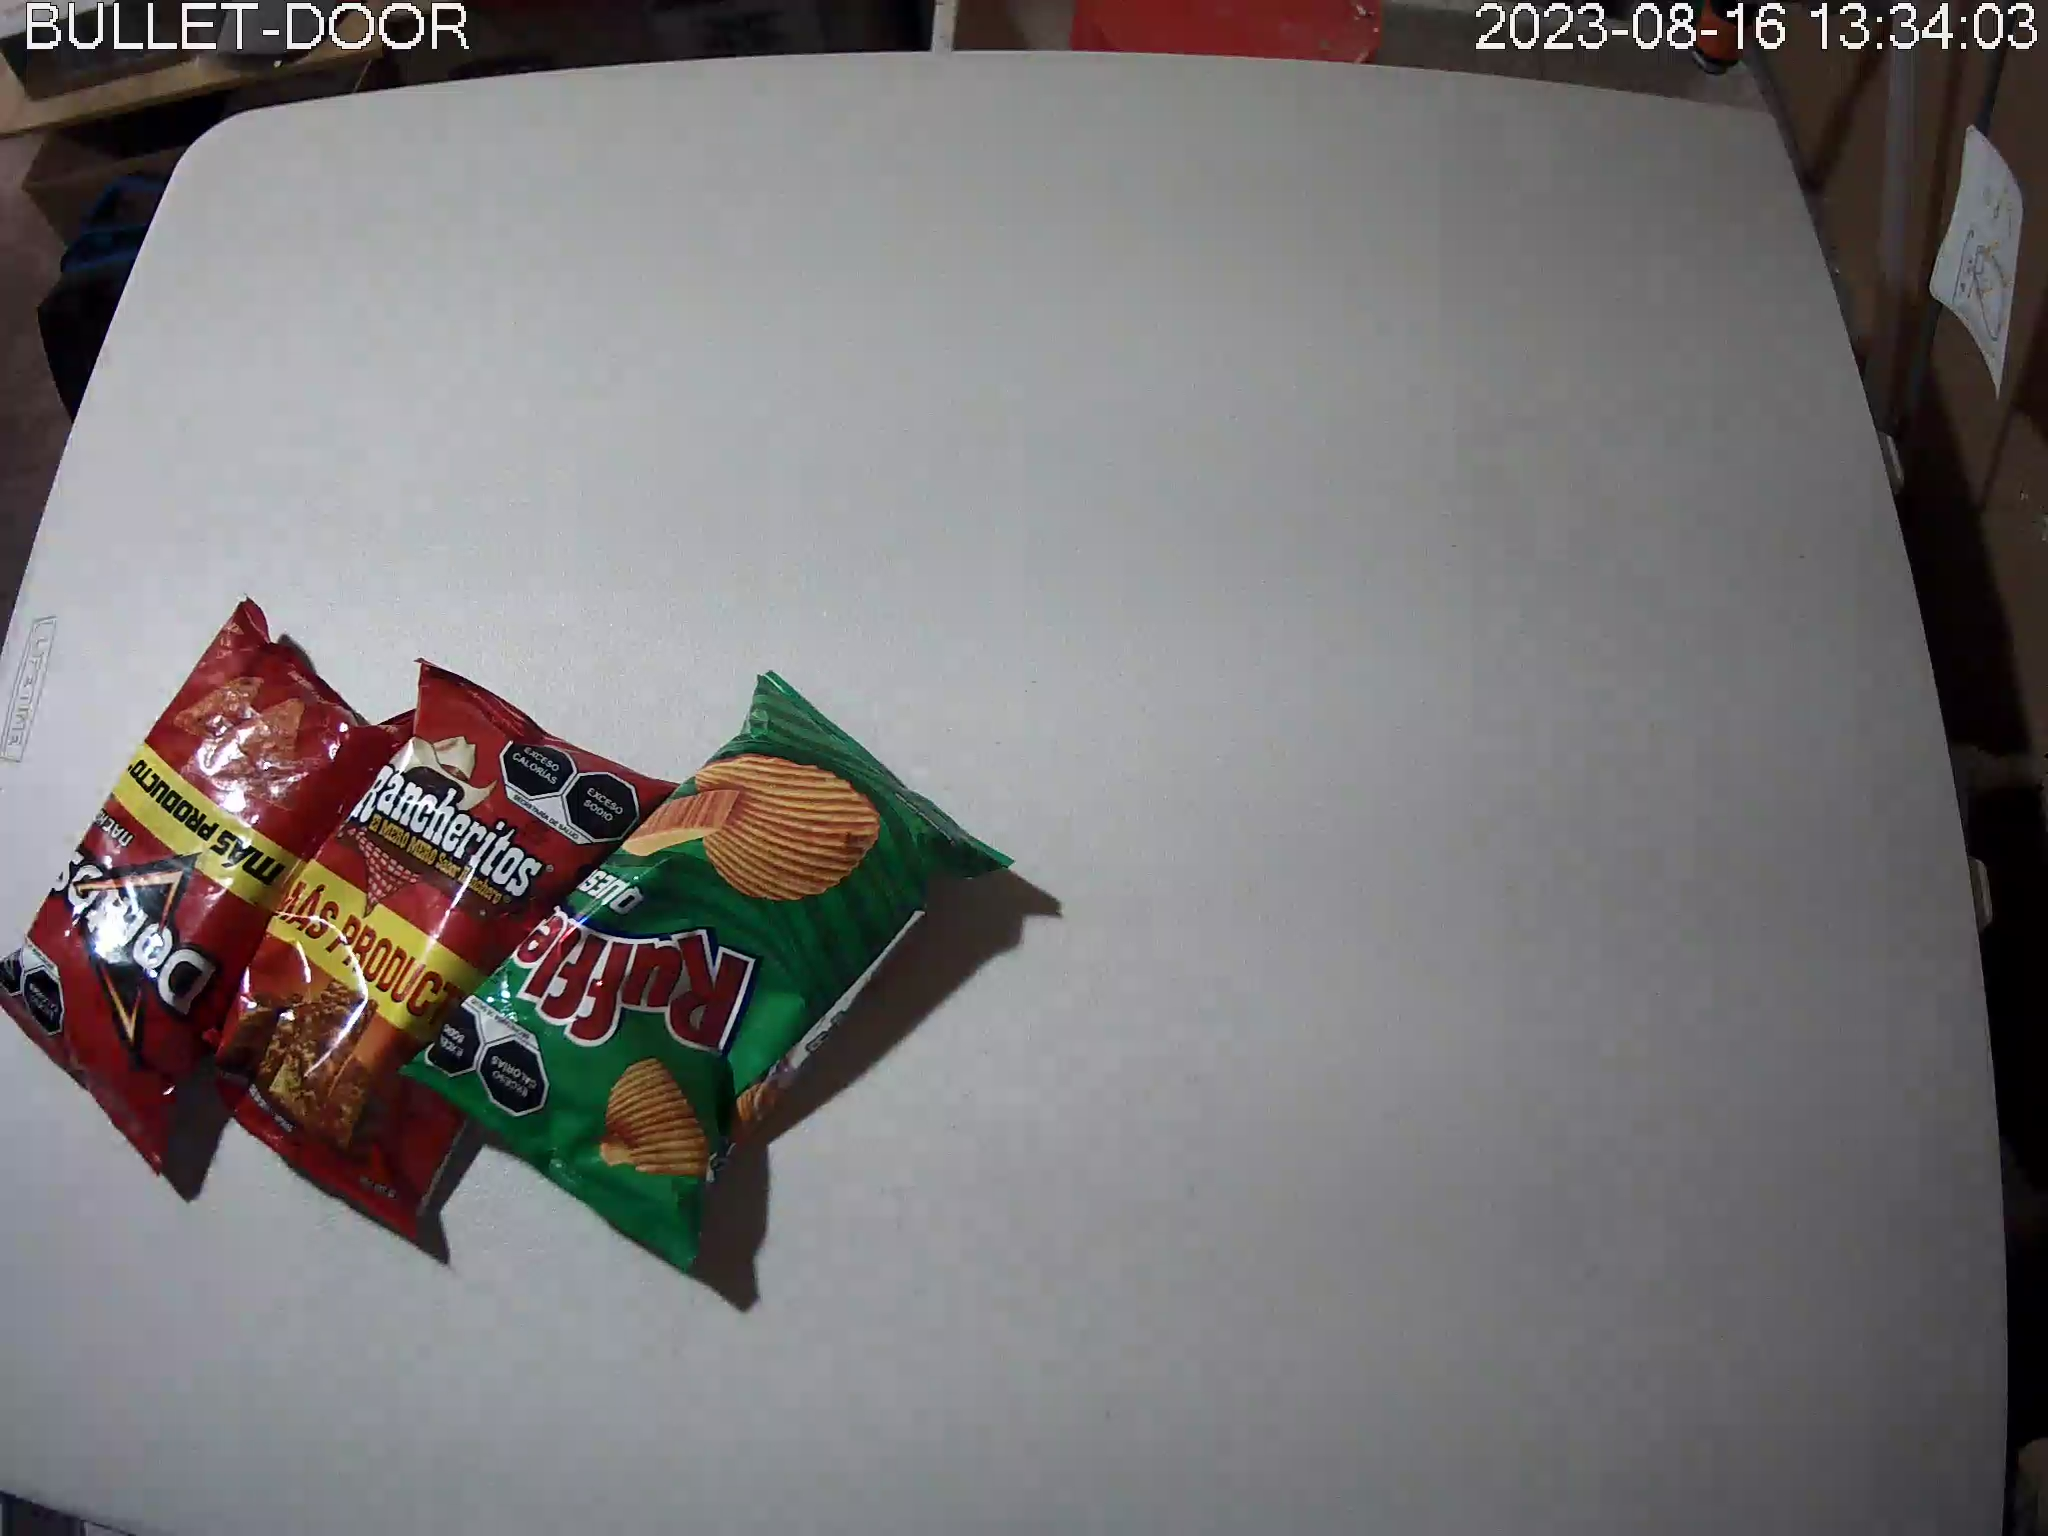DoritosN_61_F: (2, 594, 418, 1175)
Rancheritos_58_F: (219, 657, 677, 1246)
RufflesQ_48_F: (402, 666, 1013, 1276)
